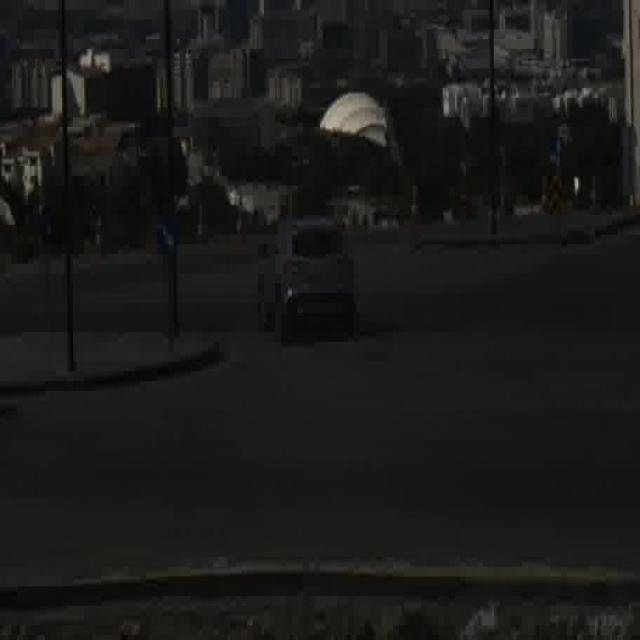Car: (260, 215, 354, 346)
